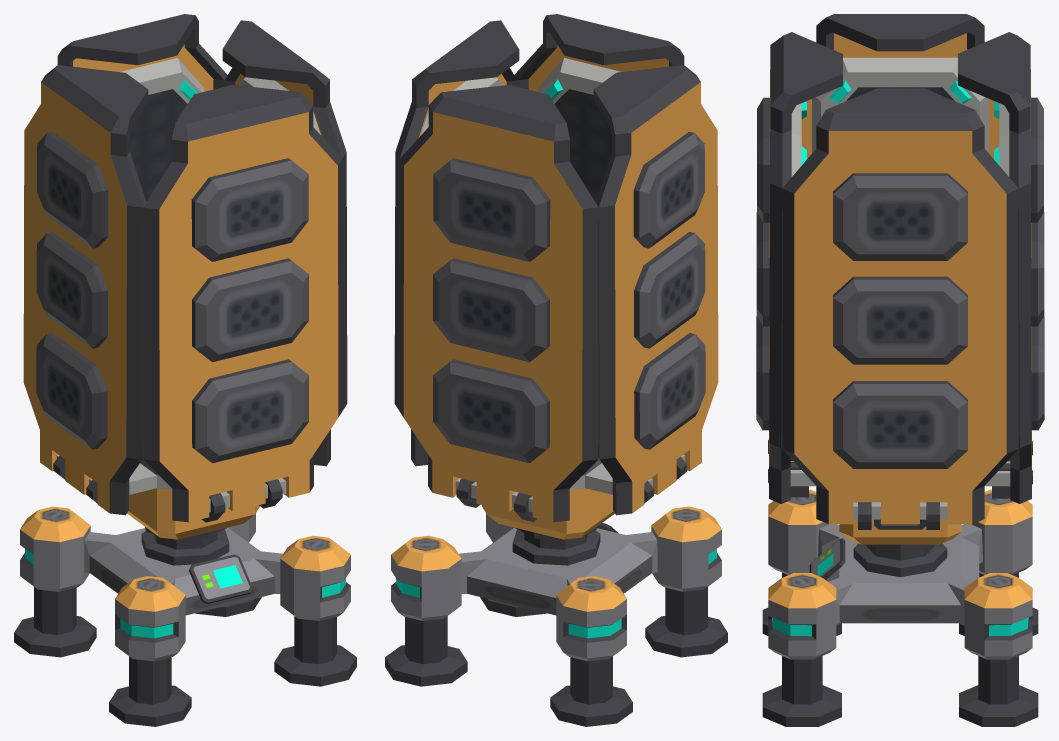
The model's file is worlds_SM_Prop_Satellite_02.gltf.
3 renders of one model, left to right at view 1: azimuth 30°, elevation 25°; view 2: azimuth 150°, elevation 25°; view 3: azimuth 270°, elevation 25°, orthographic. The views are drawn at different scales.
Parts seen in each view (by area): view 1: SM_Prop_Satellite_02_Arm_04, SM_Prop_Satellite_02_Arm_03, SM_Prop_Satellite_02, SM_Prop_Satellite_02_Arm_02, SM_Prop_Satellite_02_Arm_01; view 2: SM_Prop_Satellite_02_Arm_02, SM_Prop_Satellite_02_Arm_03, SM_Prop_Satellite_02, SM_Prop_Satellite_02_Arm_04, SM_Prop_Satellite_02_Arm_01; view 3: SM_Prop_Satellite_02_Arm_01, SM_Prop_Satellite_02, SM_Prop_Satellite_02_Arm_02, SM_Prop_Satellite_02_Arm_04, SM_Prop_Satellite_02_Arm_03.
Boxes of the visible parts, x1,y1,x2,y2 form: SM_Prop_Satellite_02_Arm_04: [143, 84, 342, 522]; SM_Prop_Satellite_02_Arm_03: [23, 65, 148, 515]; SM_Prop_Satellite_02: [14, 455, 356, 726]; SM_Prop_Satellite_02_Arm_02: [57, 14, 227, 201]; SM_Prop_Satellite_02_Arm_01: [222, 20, 347, 466]; SM_Prop_Satellite_02_Arm_02: [399, 85, 598, 522]; SM_Prop_Satellite_02_Arm_03: [593, 65, 718, 515]; SM_Prop_Satellite_02: [385, 455, 727, 726]; SM_Prop_Satellite_02_Arm_04: [514, 14, 684, 201]; SM_Prop_Satellite_02_Arm_01: [394, 20, 519, 466]; SM_Prop_Satellite_02_Arm_01: [782, 88, 1018, 524]; SM_Prop_Satellite_02: [762, 440, 1038, 726]; SM_Prop_Satellite_02_Arm_02: [958, 32, 1044, 503]; SM_Prop_Satellite_02_Arm_04: [756, 32, 842, 503]; SM_Prop_Satellite_02_Arm_03: [801, 14, 999, 158].
Size of the model in its own units: 2.63 by 6.05 by 2.62.
Materials: 1 (1 with a texture image).
